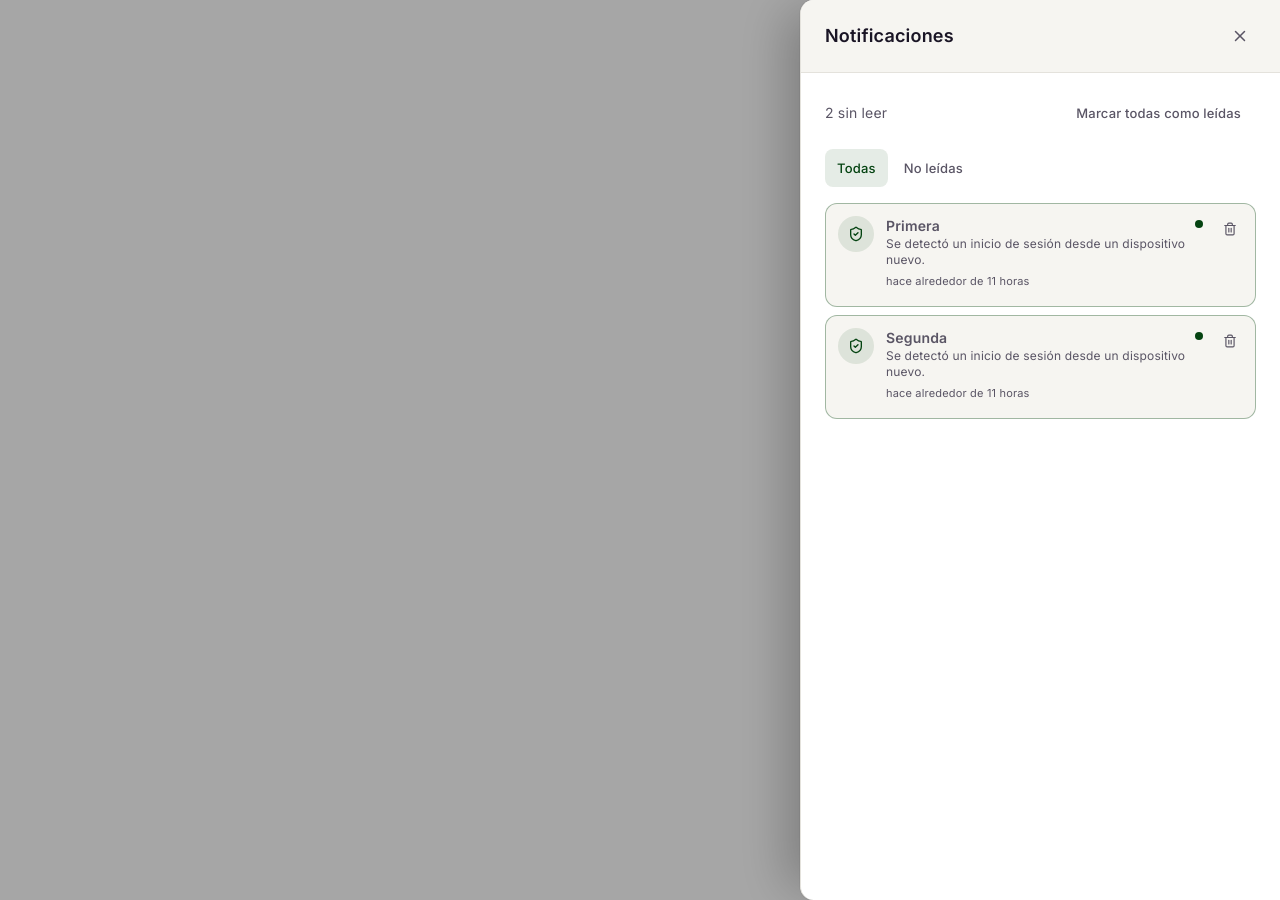
Test: NotificationPanel — listado y estados › marca todas como leídas desde la acción del encabezado
Expected: the text "2 sin leer" is shown, x1=825 y1=103 x2=887 y2=123
Click the button "Marcar todas como leídas" at (1159, 113), box x1=1061 y1=93 x2=1256 y2=133
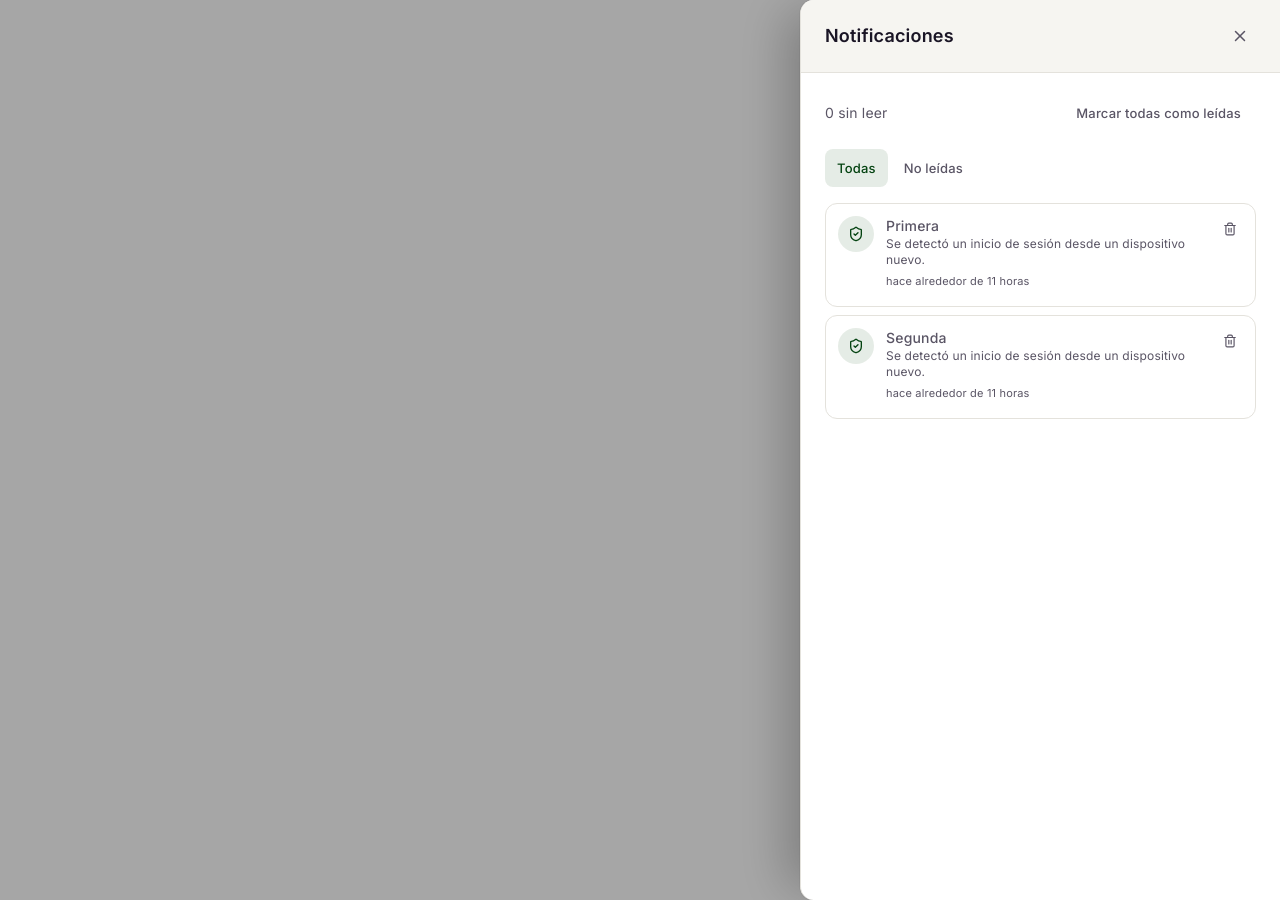
Expected: the text "0 sin leer" is shown, x1=825 y1=103 x2=888 y2=123
